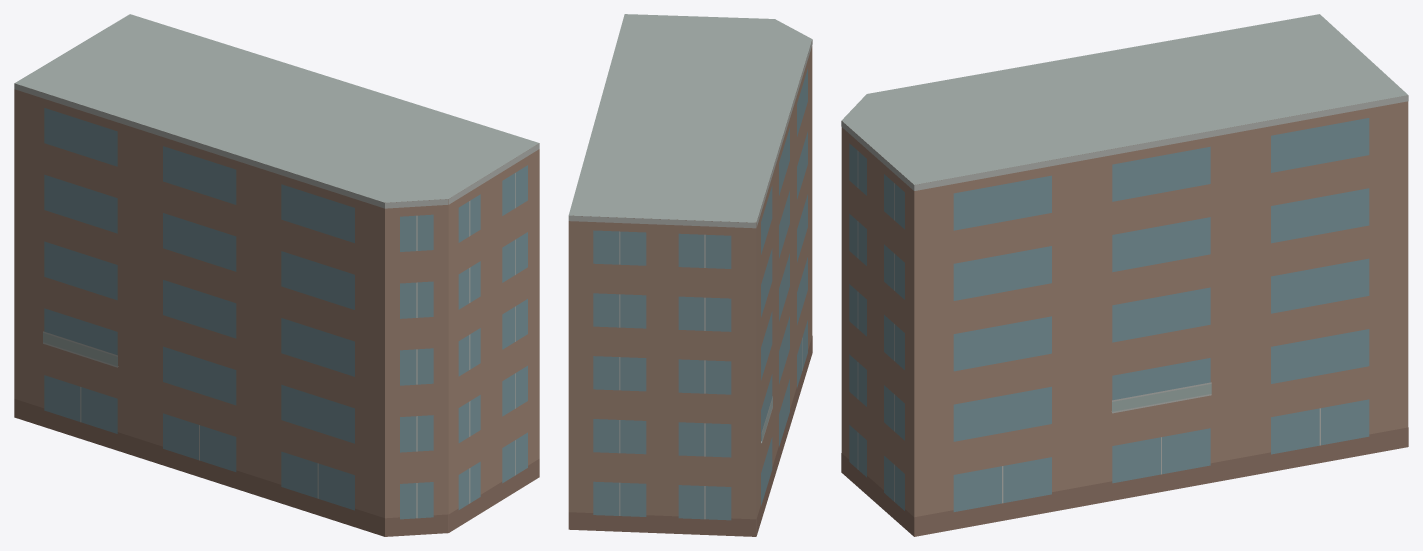
Rendered from survey-upis-32682230.glb.
The picture shows the model from 3 angles, left to right: view 1: azimuth 30°, elevation 25°; view 2: azimuth 150°, elevation 25°; view 3: azimuth 270°, elevation 25°; orthographic projection. The views are drawn at different scales.
Parts seen in each view (by area): view 1: survey-upis-32682230.tmp; view 2: survey-upis-32682230.tmp; view 3: survey-upis-32682230.tmp.
Part boxes in pixels (x1,y1,x2,y2): survey-upis-32682230.tmp: (14, 14, 539, 536); survey-upis-32682230.tmp: (568, 14, 812, 536); survey-upis-32682230.tmp: (841, 14, 1408, 536).
Bounding box in the file's own units: 14.49 × 13.9 × 20.31.
